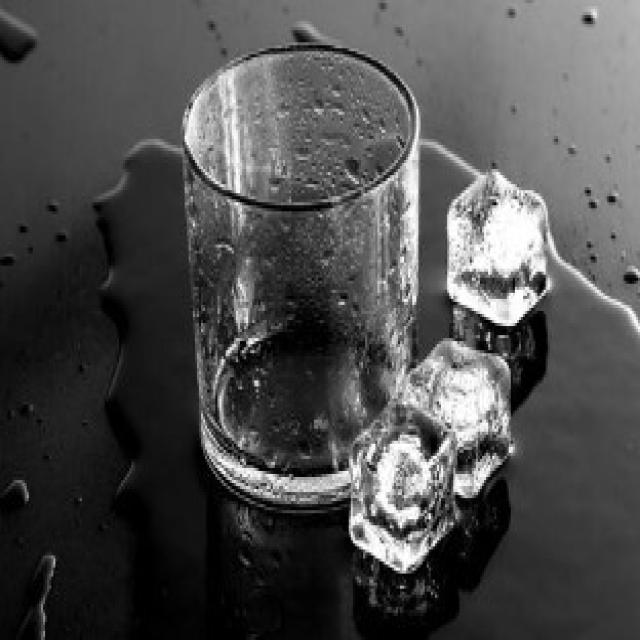electronic: (179, 39, 425, 518)
